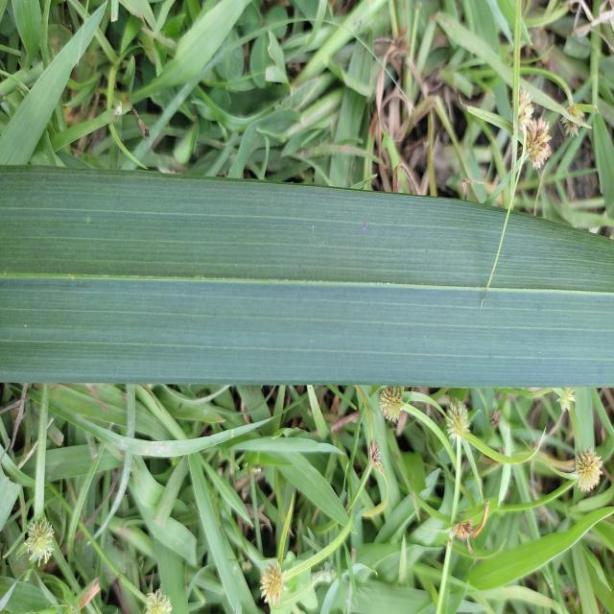Healthy: (1, 160, 614, 390)
